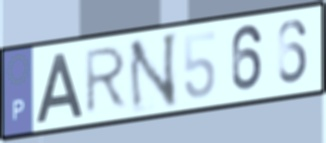5: (182, 28, 217, 101)
6: (229, 23, 264, 97), (276, 18, 310, 87)
A: (33, 51, 85, 126)
N: (126, 29, 180, 117)
R: (82, 43, 130, 118)
